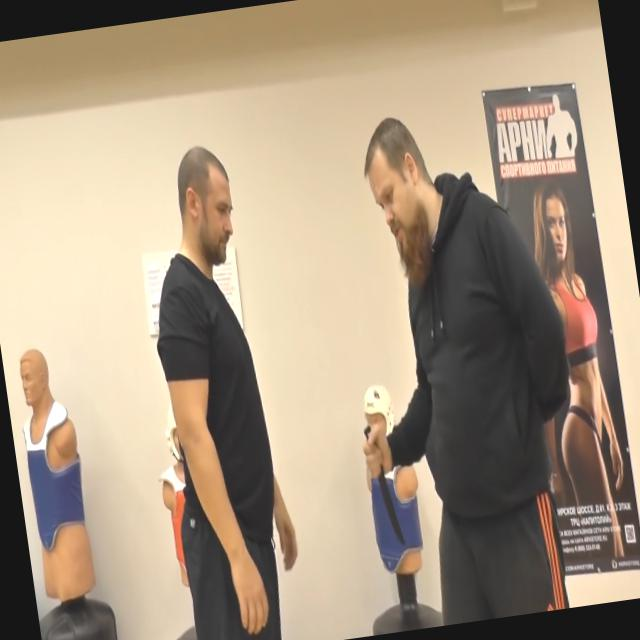knife: (358, 418, 407, 550)
